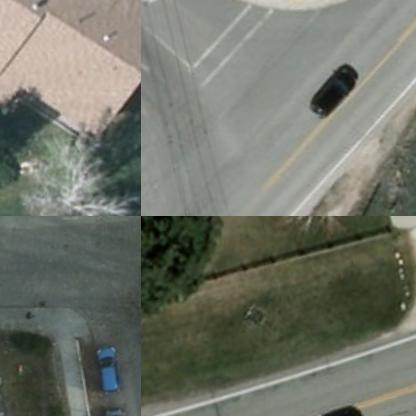car: (300, 63, 368, 120), (93, 344, 124, 398), (98, 402, 128, 415)
